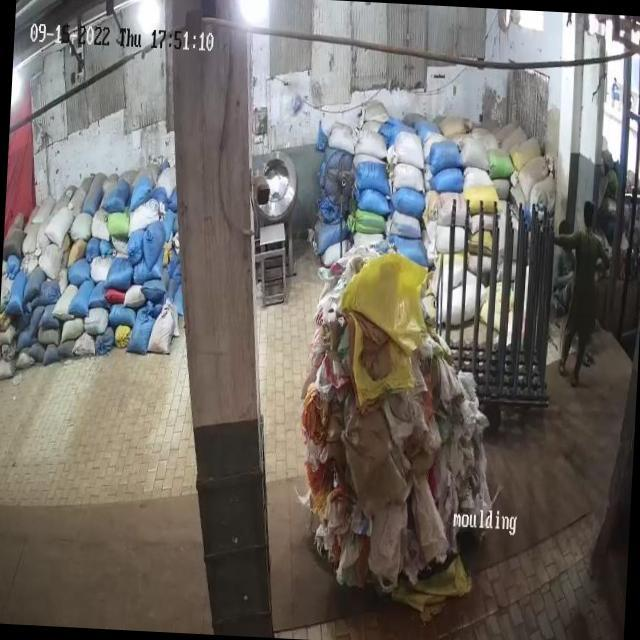person: (552, 200, 616, 388)
